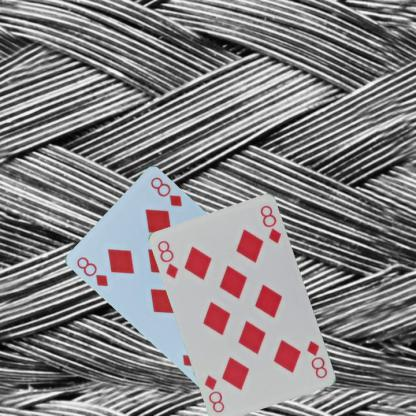8d: (74, 254, 110, 288), (304, 338, 329, 380), (155, 238, 180, 280)
